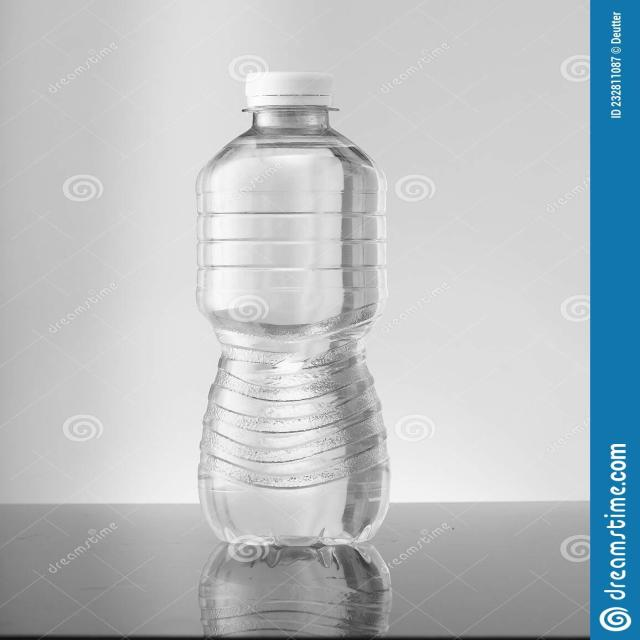bottle: (183, 56, 403, 567)
